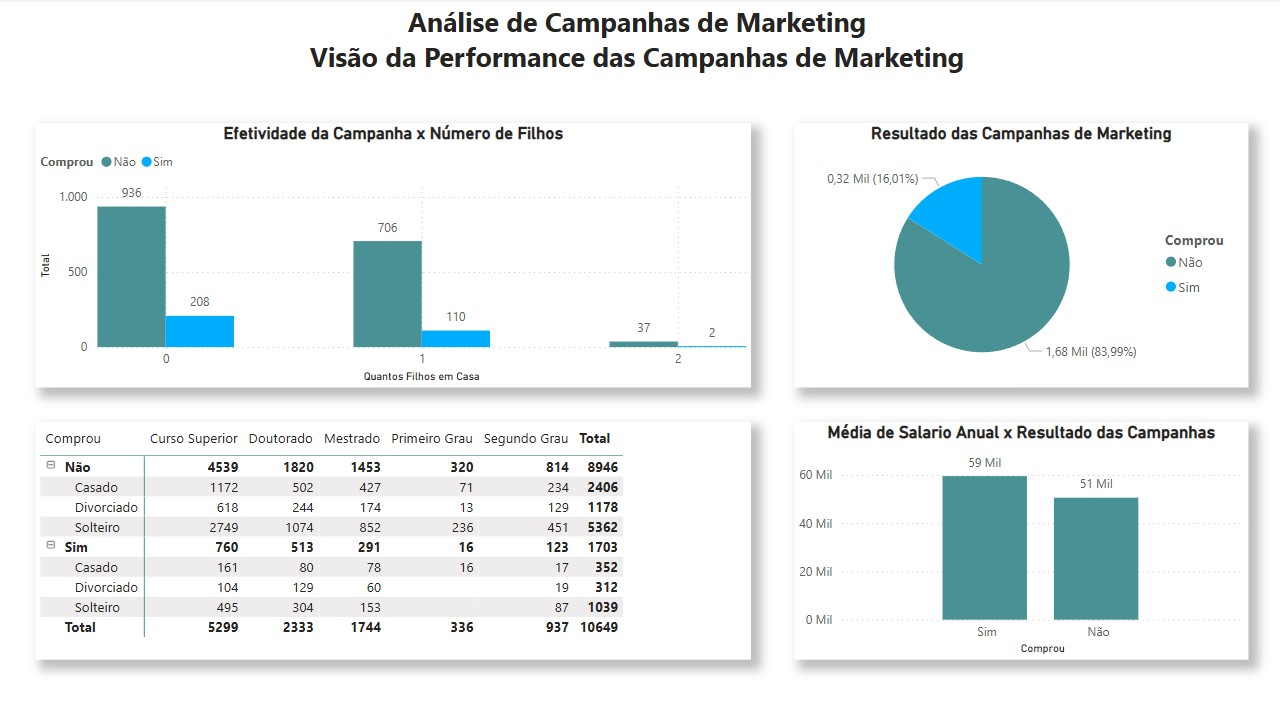

The dashboard page shown, as its layout file describes it:
{"tool":"powerbi","page":{"name":"Visão Campanhas","canvas":[1280,720],"ordinal":2},"visuals":[{"type":"textbox","box":[0,0,1271.9,88.1],"z":0},{"type":"pieChart","title":"Resultado das Campanhas de Marketing","fields":{"Category":["DadosMarketing.Comprou"],"Y":["CountNonNull(DadosMarketing.ID)"]},"box":[791.8,124.7,452.1,263],"z":1000},{"type":"clusteredColumnChart","title":"Média de Salario Anual x Resultado das Campanhas","fields":{"Category":["DadosMarketing.Comprou"],"Y":["Avg(DadosMarketing.Salario Anual)"]},"box":[791.8,421.9,452.1,237],"z":2000},{"type":"pivotTable","fields":{"Rows":["DadosMarketing.Comprou","DadosMarketing.Estado Civil"],"Values":["Sum(DadosMarketing.Numero Visitas WebSite Mes)"],"Columns":["DadosMarketing.Escolaridade"]},"box":[37,421.9,712.3,237],"z":3000},{"type":"clusteredColumnChart","title":"Efetividade  da Campanha x Número de Filhos","fields":{"Category":["DadosMarketing.Filhos em Casa"],"Series":["DadosMarketing.Comprou"],"Y":["CountNonNull(DadosMarketing.Filhos em Casa)"]},"box":[37,124.7,712.3,263],"z":4000}]}

Visuals, with their boxes in screenshot pixels (x1, y1, x2, y2), scaled from the page's 1280x720 canvas onto the 1280x715 screenshot:
textbox: l=0, t=0, r=1272, b=87
"Resultado das Campanhas de Marketing" pieChart: l=792, t=124, r=1244, b=385
"Média de Salario Anual x Resultado das Campanhas" clusteredColumnChart: l=792, t=419, r=1244, b=654
pivotTable - DadosMarketing.Comprou x DadosMarketing.Estado Civil: l=37, t=419, r=749, b=654
"Efetividade  da Campanha x Número de Filhos" clusteredColumnChart: l=37, t=124, r=749, b=385
